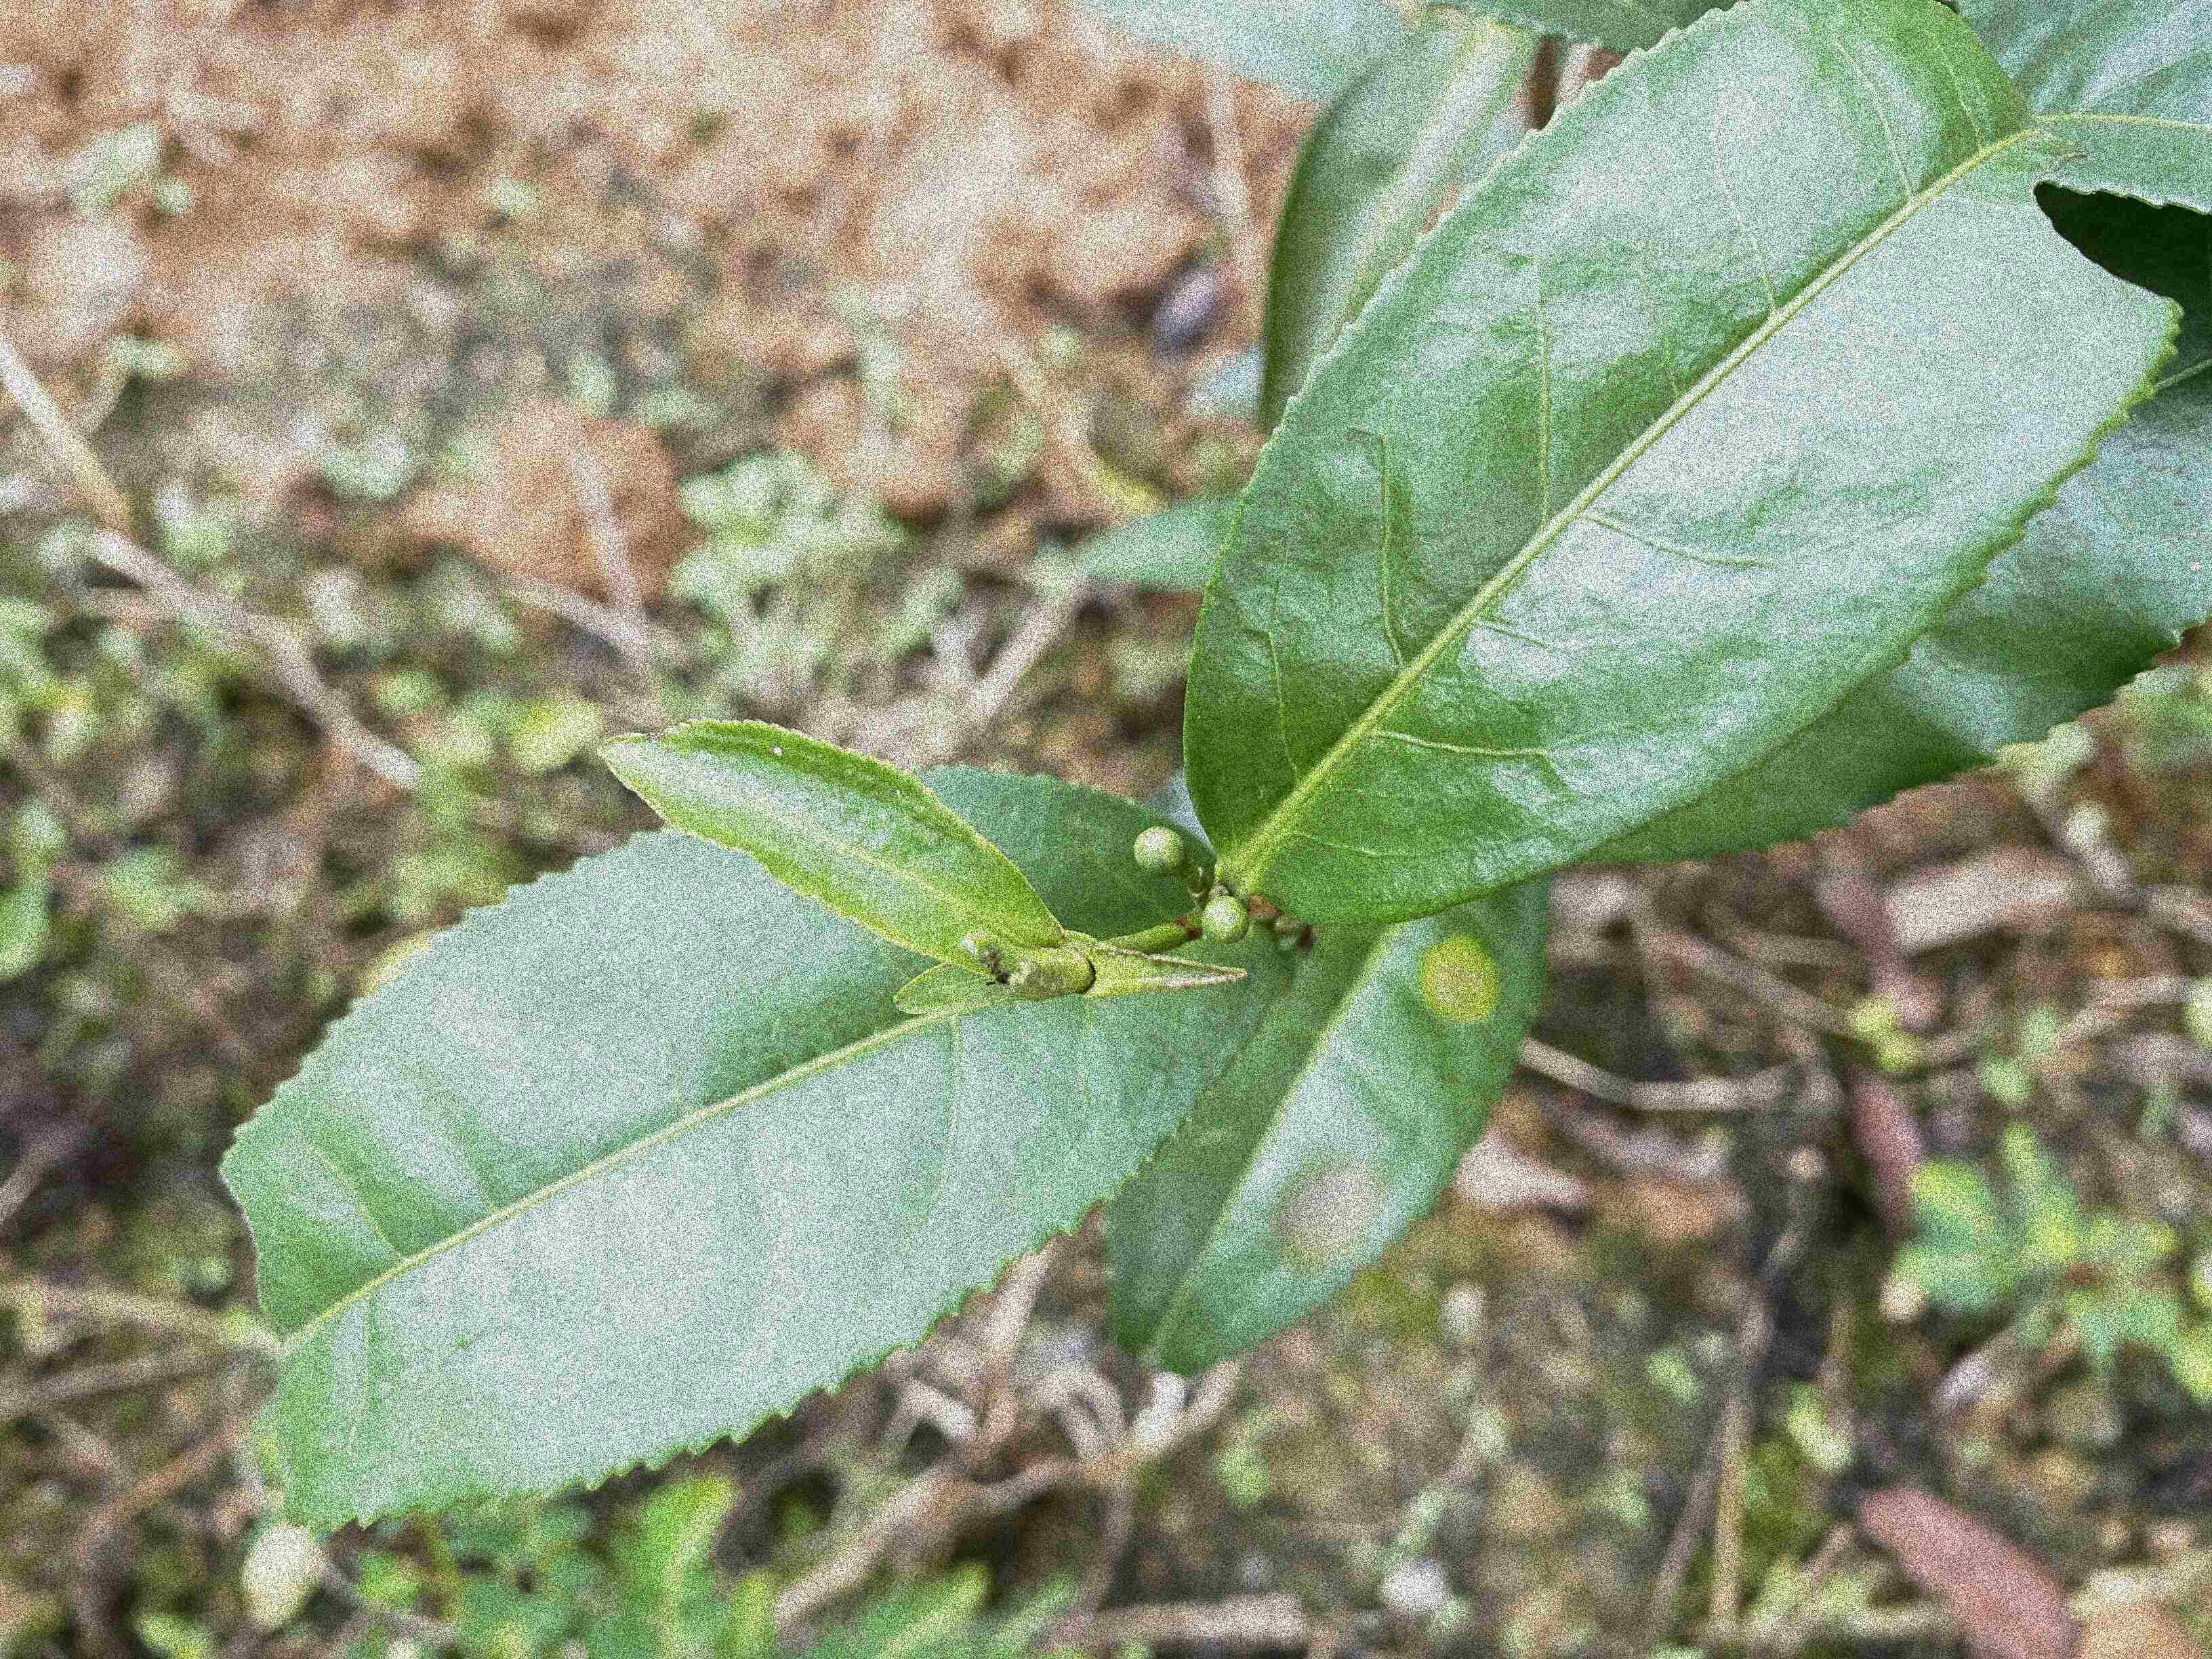chabing_high: (1113, 884, 1554, 1375)
chihuo_low: (1184, 3, 2182, 927), (216, 762, 1280, 1532)
tanju_low: (599, 716, 1069, 985)
